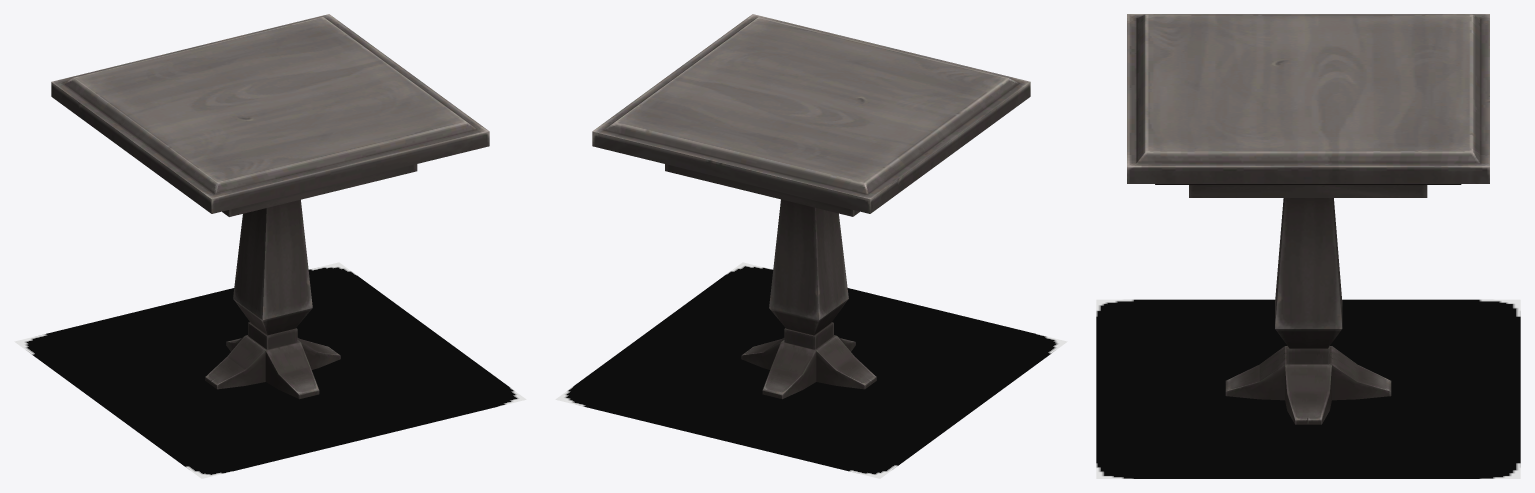
The model's file is jj_ty_table06_01.FBX.
3 views of the same model, side by side, from view 1: azimuth 30°, elevation 25°; view 2: azimuth 150°, elevation 25°; view 3: azimuth 270°, elevation 25° (orthographic). The views are drawn at different scales.
Visible parts, largest first — view 1: jj_ty_table06_01, shadow; view 2: jj_ty_table06_01, shadow; view 3: jj_ty_table06_01, shadow.
Part boxes in pixels (bbox=[...]): jj_ty_table06_01: bbox=[51, 14, 489, 399]; shadow: bbox=[14, 262, 526, 478]; jj_ty_table06_01: bbox=[592, 14, 1030, 399]; shadow: bbox=[555, 262, 1067, 478]; jj_ty_table06_01: bbox=[1127, 14, 1489, 424]; shadow: bbox=[1096, 299, 1520, 478].
Size of the model in its own units: 51.18 by 41.21 by 51.18.
